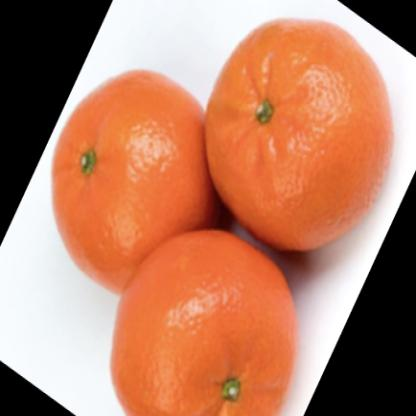fresh: (53, 20, 394, 416)
